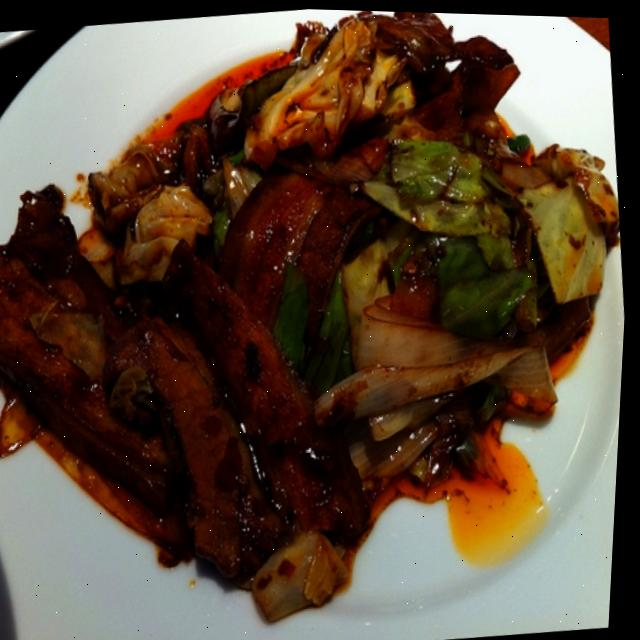猪肉菜式: (0, 0, 640, 632)
